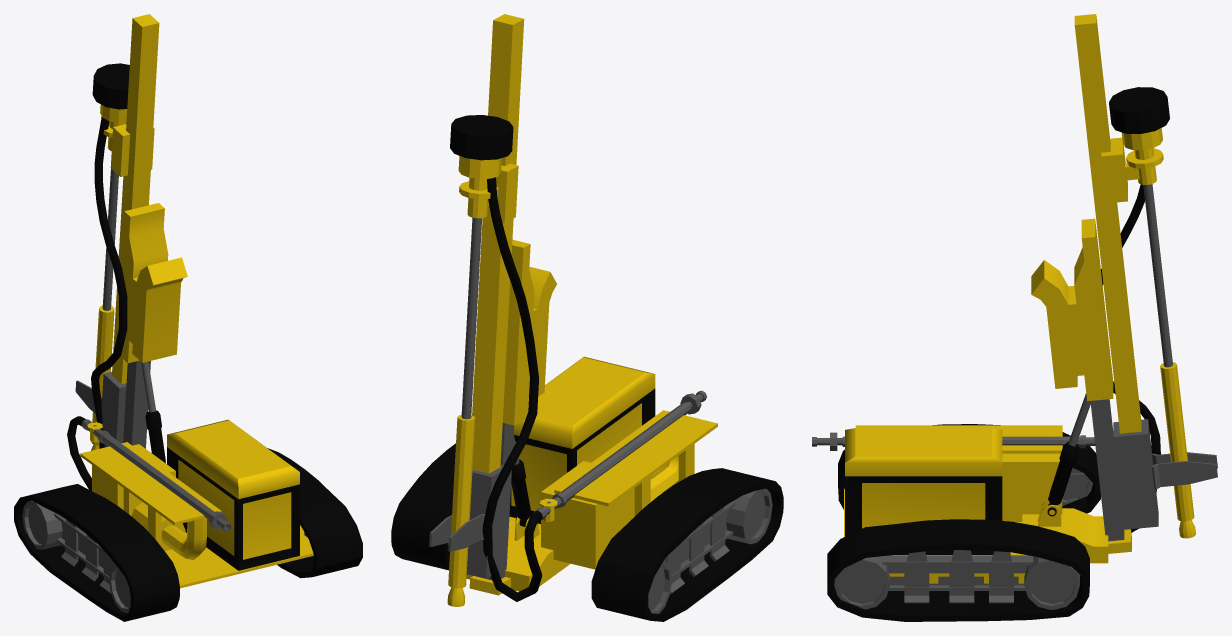
File: perforadora.fbx
The picture shows the model from 3 angles, left to right: view 1: azimuth 30°, elevation 25°; view 2: azimuth 150°, elevation 25°; view 3: azimuth 270°, elevation 25°; orthographic projection. The views are drawn at different scales.
Visible parts, largest first — view 1: pCylinder1, pCube4, pCube2, pCylinder6, pCube20, pCube9, pCube6, pCube14, pCylinder2, pCube5, grupo11; view 2: pCylinder1, pCube2, pCube4, pCylinder6, pCube9, pCube6, pCube5, pCube20, pCube15, grupo11, pCylinder2; view 3: pCylinder1, pCube4, pCube20, pCube19, pCube5, pCylinder6, pCube15, pCube6, pCube2, grupo11, pCube9.
Part boxes in pixels (x1=…): pCylinder1: x1=75, y1=14, x2=187, y2=450; pCube4: x1=167, y1=419, x2=299, y2=570; pCube2: x1=14, y1=484, x2=179, y2=621; pCylinder6: x1=67, y1=116, x2=231, y2=531; pCube20: x1=267, y1=448, x2=362, y2=578; pCube9: x1=22, y1=500, x2=130, y2=613; pCube6: x1=80, y1=442, x2=221, y2=525; pCube14: x1=164, y1=525, x2=313, y2=588; pCylinder2: x1=131, y1=502, x2=206, y2=560; pCube5: x1=92, y1=444, x2=175, y2=515; grupo11: x1=145, y1=410, x2=165, y2=463; pCylinder1: x1=429, y1=14, x2=556, y2=606; pCube2: x1=591, y1=468, x2=783, y2=621; pCube4: x1=509, y1=356, x2=655, y2=523; pCylinder6: x1=482, y1=177, x2=706, y2=601; pCube9: x1=648, y1=488, x2=772, y2=613; pCube6: x1=554, y1=410, x2=717, y2=506; pCube5: x1=541, y1=461, x2=634, y2=569; pCube20: x1=391, y1=443, x2=455, y2=570; pCube15: x1=466, y1=519, x2=570, y2=591; grupo11: x1=511, y1=459, x2=539, y2=540; pCylinder2: x1=650, y1=455, x2=678, y2=501; pCylinder1: x1=1031, y1=14, x2=1217, y2=553; pCube4: x1=845, y1=428, x2=1002, y2=554; pCube20: x1=827, y1=519, x2=1089, y2=621; pCube19: x1=834, y1=550, x2=1079, y2=609; pCube5: x1=1002, y1=453, x2=1062, y2=521; pCylinder6: x1=812, y1=184, x2=1160, y2=532; pCube15: x1=1022, y1=508, x2=1108, y2=563; pCube6: x1=855, y1=425, x2=1062, y2=453; pCube2: x1=838, y1=424, x2=1100, y2=513; grupo11: x1=1037, y1=441, x2=1079, y2=526; pCube9: x1=1062, y1=468, x2=1093, y2=505.
Size of the model in its own units: 232 by 495 by 331.
